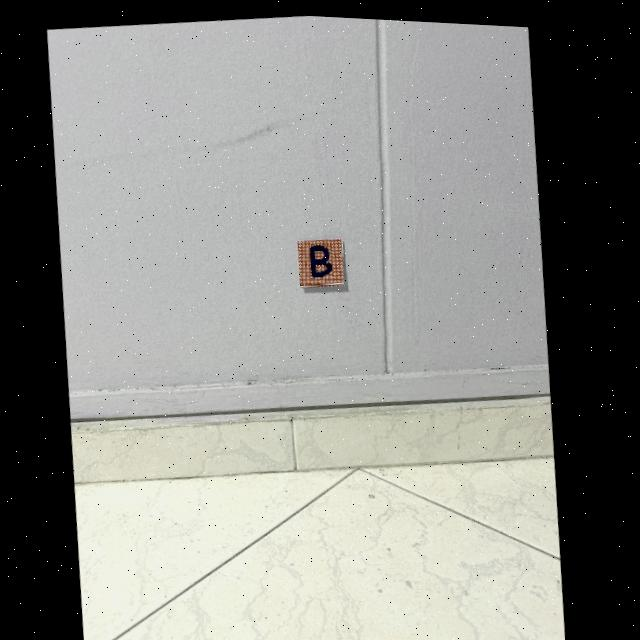B: (312, 242, 334, 274)
